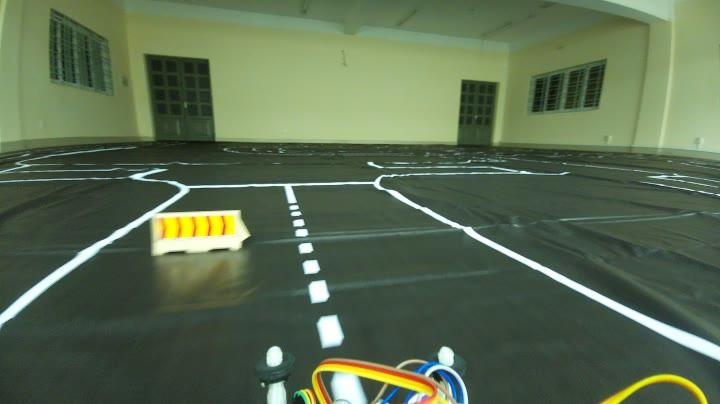roadblock: (145, 209, 246, 254)
